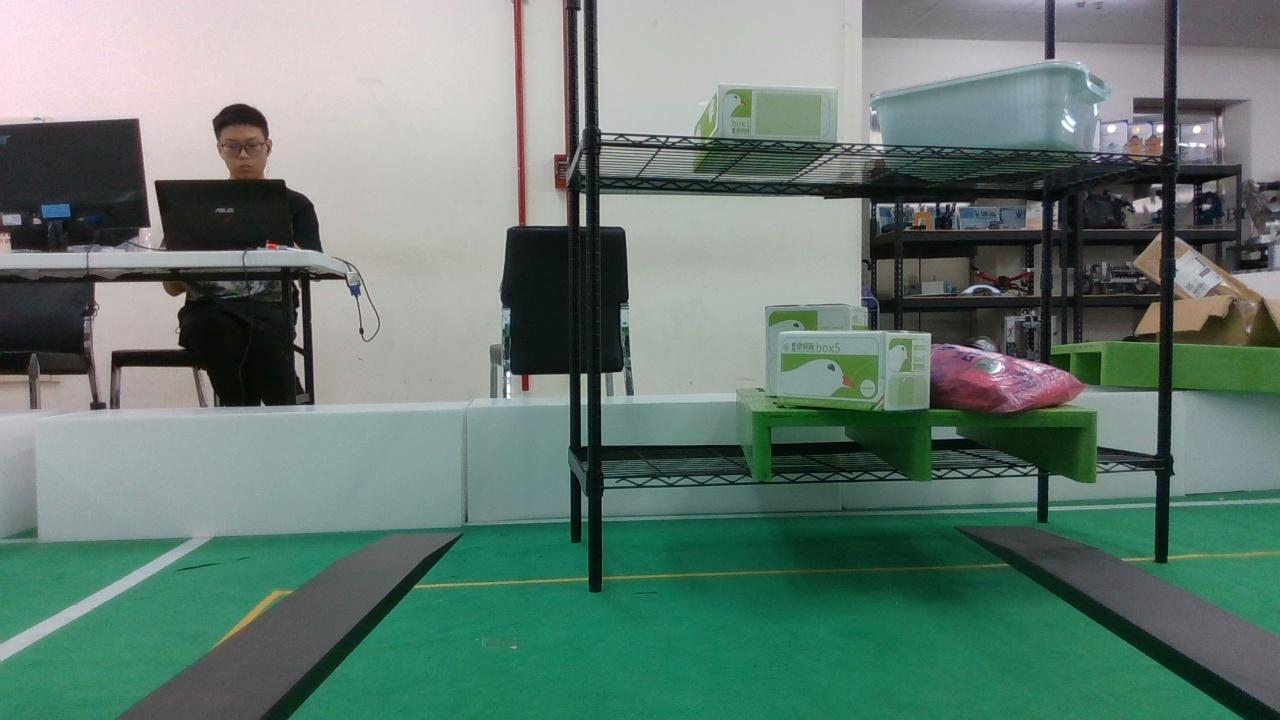Pallet: (753, 411, 1099, 484)
